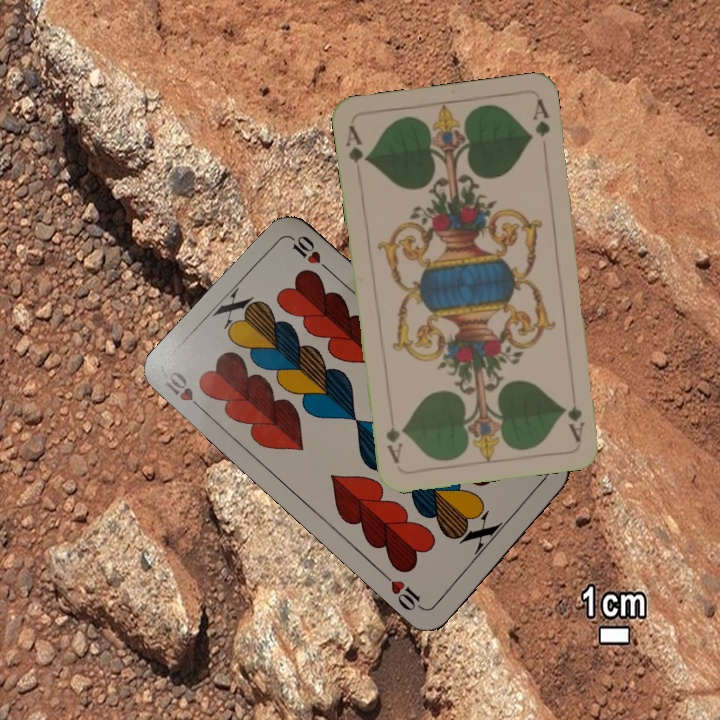GA: (564, 385, 588, 444), (341, 121, 371, 166)
H10: (157, 367, 209, 417)
